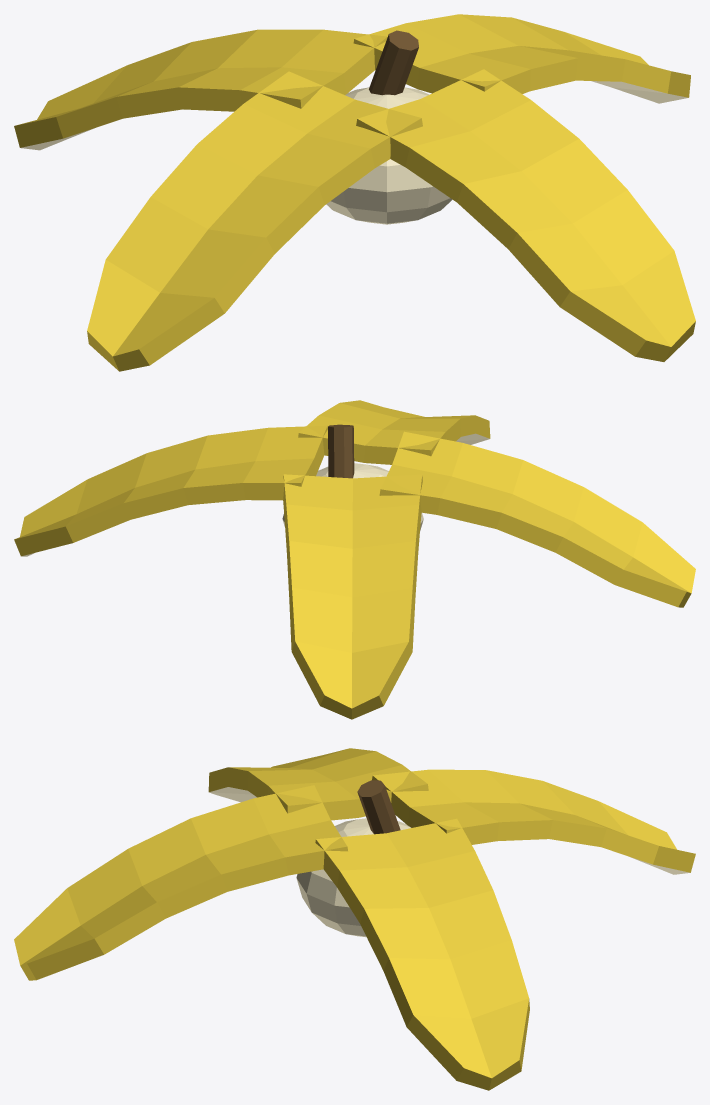
File: banana_peel.glb
3 renders of one model, top to bottom at view 1: azimuth 30°, elevation 25°; view 2: azimuth 150°, elevation 25°; view 3: azimuth 270°, elevation 25°, orthographic. The views are drawn at different scales.
Visible parts, largest first — view 1: banana_peel; view 2: banana_peel; view 3: banana_peel.
Part boxes in pixels (bbox=[...]): banana_peel: bbox=[14, 14, 695, 371]; banana_peel: bbox=[14, 400, 695, 719]; banana_peel: bbox=[14, 748, 695, 1090].
Size of the model in its own units: 0.7958 by 0.2092 by 0.7607.
